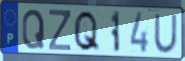1: (110, 9, 122, 55)
4: (128, 11, 151, 55)
Q: (72, 9, 101, 53), (21, 8, 46, 51)
U: (152, 13, 179, 55)
Z: (48, 8, 72, 53)
